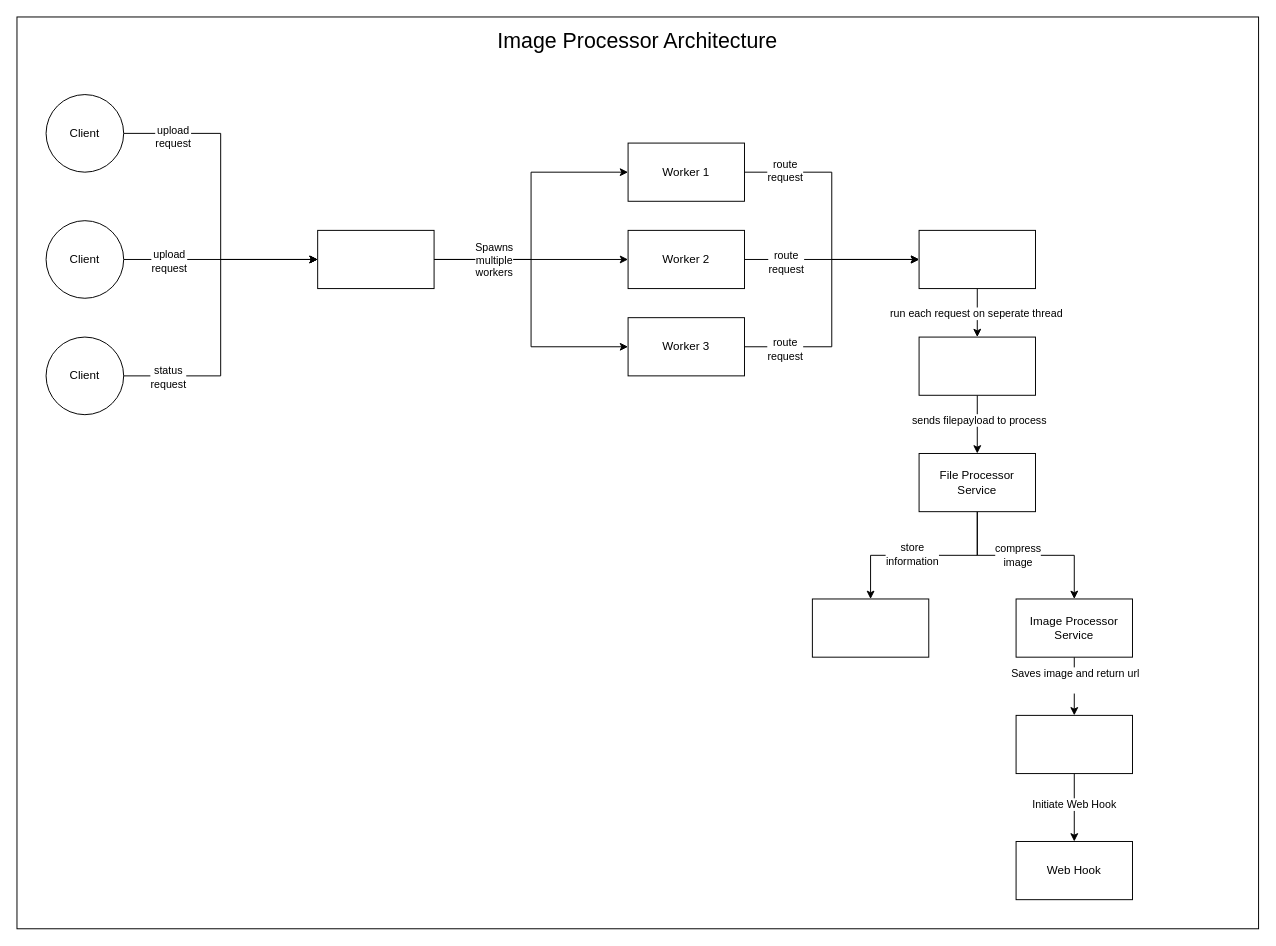
Some shapes in this 1276 by 946 pixel diagram are drawn without their labels. Here are the shapes that lost their labels. From the top down, the box of each, then its label:
(317, 229, 434, 289): WSGI
(918, 229, 1035, 289): Flask Server
(918, 336, 1035, 395): Thread Pool Executor
(811, 598, 929, 657): Database Service
(1015, 714, 1132, 774): File Storage Service
